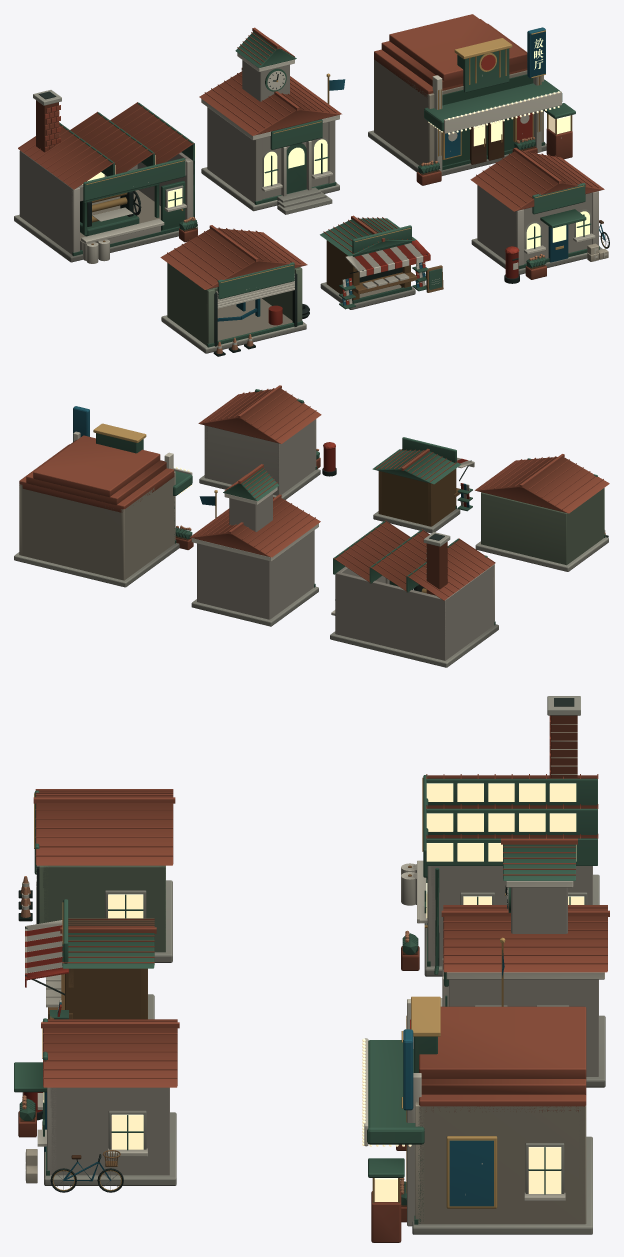
Rendered from town-buildings.glb.
3 renders of one model, top to bottom at view 1: azimuth 30°, elevation 25°; view 2: azimuth 150°, elevation 25°; view 3: azimuth 270°, elevation 25°, orthographic. The views are drawn at different scales.
Parts seen in each view (by area): view 1: bldg_channels_matte, bldg_about_matte, bldg_resume_matte, bldg_projects_matte, bldg_contact_matte, bldg_writing_matte, bldg_channels_metal, bldg_resume_glow, bldg_channels_glow, bldg_contact_glow, bldg_about_metal; view 2: bldg_channels_matte, bldg_about_matte, bldg_resume_matte, bldg_projects_matte, bldg_contact_matte, bldg_writing_matte, bldg_channels_metal; view 3: bldg_channels_matte, bldg_contact_matte, bldg_resume_matte, bldg_projects_matte, bldg_about_matte, bldg_writing_matte, bldg_about_glow, bldg_channels_metal, bldg_channels_glow, bldg_contact_glow, bldg_projects_glow.
Boxes of the visible parts, <box> form: bldg_channels_matte: <box>368,14,575,185</box>; bldg_about_matte: <box>14,90,197,263</box>; bldg_resume_matte: <box>199,27,345,214</box>; bldg_projects_matte: <box>160,225,309,356</box>; bldg_contact_matte: <box>470,147,609,283</box>; bldg_writing_matte: <box>320,215,443,309</box>; bldg_channels_metal: <box>438,30,572,159</box>; bldg_resume_glow: <box>264,139,327,186</box>; bldg_channels_glow: <box>473,38,570,146</box>; bldg_contact_glow: <box>526,211,589,249</box>; bldg_about_metal: <box>86,160,184,222</box>; bldg_channels_matte: <box>14,406,193,587</box>; bldg_about_matte: <box>330,520,498,667</box>; bldg_resume_matte: <box>190,464,320,626</box>; bldg_projects_matte: <box>475,454,609,571</box>; bldg_contact_matte: <box>198,385,336,499</box>; bldg_writing_matte: <box>372,437,474,533</box>; bldg_channels_metal: <box>93,423,146,442</box>; bldg_channels_matte: <box>364,999,592,1242</box>; bldg_contact_matte: <box>14,1018,179,1192</box>; bldg_resume_matte: <box>440,838,609,1087</box>; bldg_projects_matte: <box>18,789,175,962</box>; bldg_about_matte: <box>401,696,599,976</box>; bldg_writing_matte: <box>25,899,156,1019</box>; bldg_about_glow: <box>426,783,584,918</box>; bldg_channels_metal: <box>372,996,497,1208</box>; bldg_channels_glow: <box>374,1147,561,1201</box>; bldg_contact_glow: <box>43,1092,143,1149</box>; bldg_projects_glow: <box>108,894,143,918</box>.
Size of the model in its own units: 22.31 by 6.21 by 15.49.
